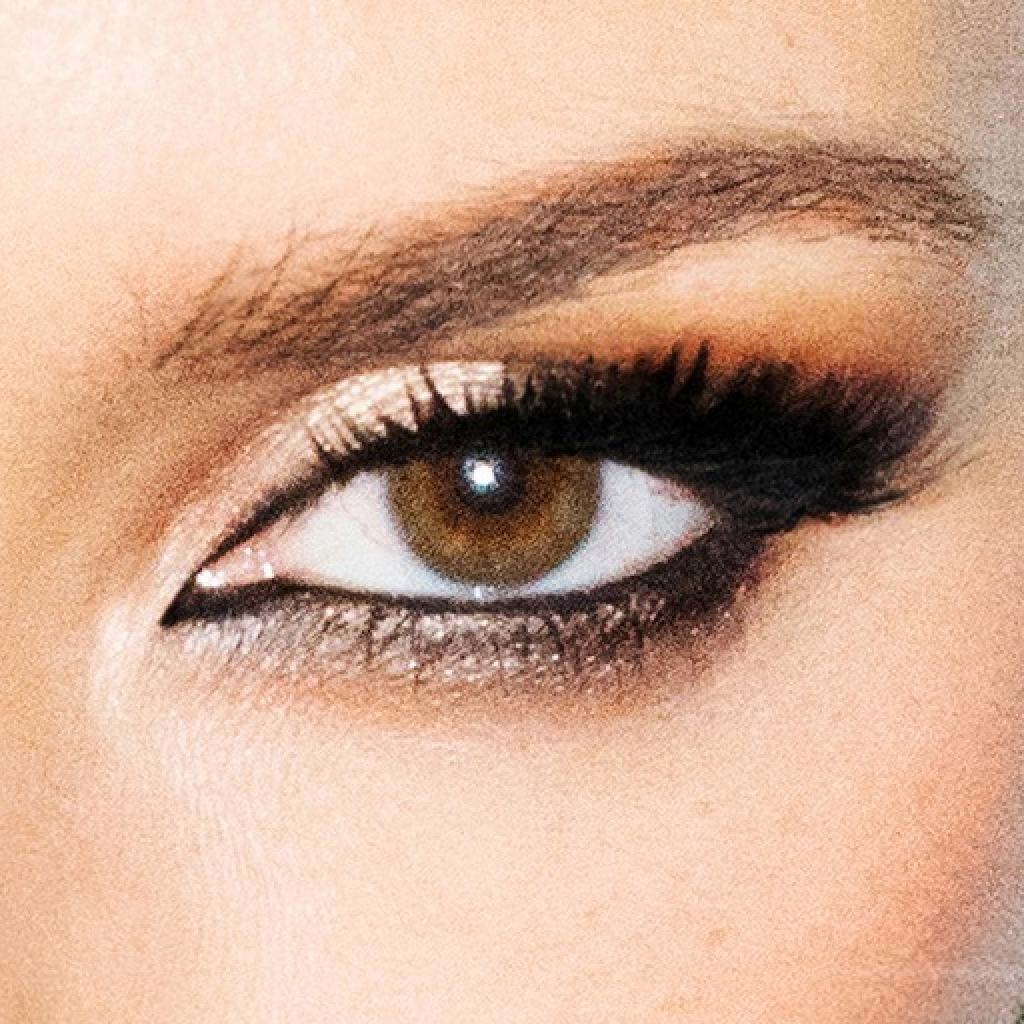iris: (390, 443, 602, 587)
pupil: (448, 436, 525, 511)
sclera: (263, 462, 718, 600)
